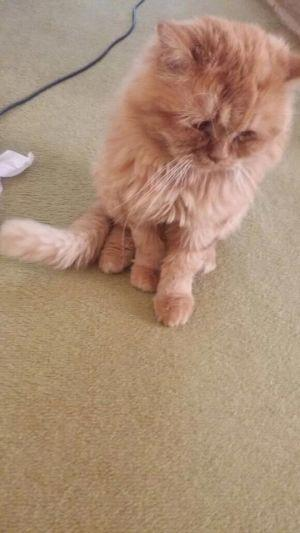persian: (125, 10, 300, 185)
